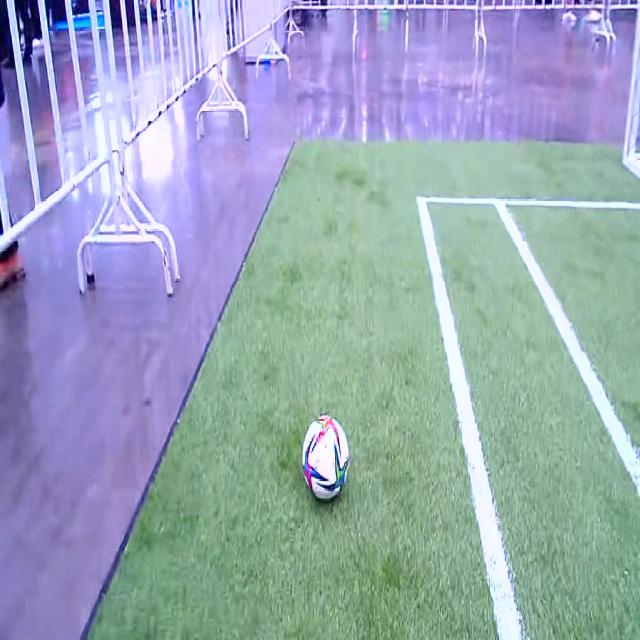ball: (302, 415, 349, 500)
